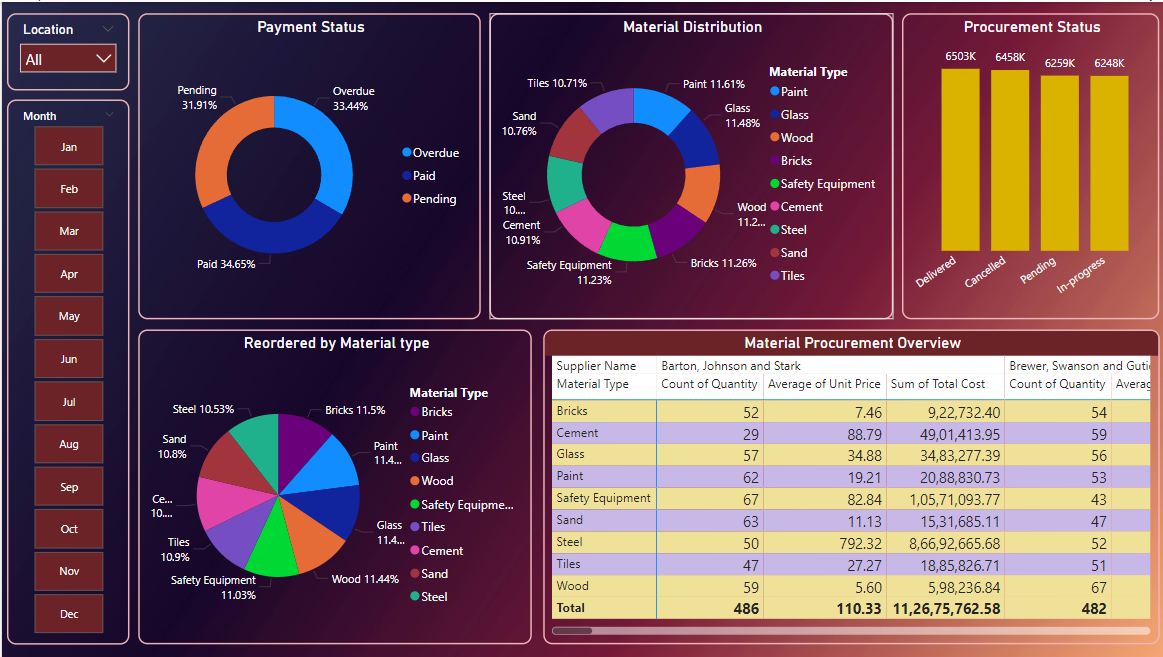

The page's visual inventory and layout, read from the dashboard file:
{"tool":"powerbi","page":{"name":"Real Estate 2","canvas":[1280,720],"ordinal":1},"visuals":[{"type":"donutChart","title":"Material Distribution","fields":{"Category":["dubai_construction_procurement.Material Type"],"Y":["Sum(dubai_construction_procurement.Quantity)"]},"box":[535.2,12.3,443.2,336.2],"z":0},{"type":"donutChart","title":"Payment Status","fields":{"Y":["Measure table.Overdue Orders","Measure table.Paid Orders (%)","Measure table.Pending Orders"]},"box":[149.6,12.3,376,336.2],"z":1000},{"type":"clusteredColumnChart","title":"Procurement Status","fields":{"Category":["dubai_construction_procurement.Procurement Status"],"Y":["Sum(dubai_construction_procurement.Quantity)"]},"box":[988,12.3,282.7,336.2],"z":2000},{"type":"pieChart","title":"Reordered by Material type","fields":{"Category":["dubai_construction_procurement.Material Type"],"Y":["Sum(dubai_construction_procurement.Reorder Quantity)"]},"box":[149.6,359.5,432.2,345.8],"z":3000},{"type":"slicer","fields":{"Values":["Calende table.Month"]},"box":[5.5,107,134.5,598.3],"z":4000},{"type":"slicer","fields":{"Values":["dubai_construction_procurement.Location"]},"box":[5.5,12.3,134.5,85.1],"z":5000},{"type":"pivotTable","title":"Material Procurement Overview","fields":{"Rows":["dubai_construction_procurement.Material Type"],"Columns":["dubai_construction_procurement.Supplier Name"],"Values":["CountNonNull(dubai_construction_procurement.Quantity)","Avg(dubai_construction_procurement.Unit Price)","Sum(dubai_construction_procurement.Total Cost)"]},"box":[594.2,359.5,676.5,345.8],"z":6000}]}

Visuals, with their boxes in screenshot pixels (x1, y1, x2, y2), scaled from the page's 1280x720 canvas onto the 1163x657 screenshot:
"Material Distribution" donutChart: Rect(486, 11, 889, 318)
"Payment Status" donutChart: Rect(136, 11, 478, 318)
"Procurement Status" clusteredColumnChart: Rect(898, 11, 1155, 318)
"Reordered by Material type" pieChart: Rect(136, 328, 529, 644)
slicer - Calende table.Month: Rect(5, 98, 127, 644)
slicer - dubai_construction_procurement.Location: Rect(5, 11, 127, 89)
"Material Procurement Overview" pivotTable: Rect(540, 328, 1155, 644)
